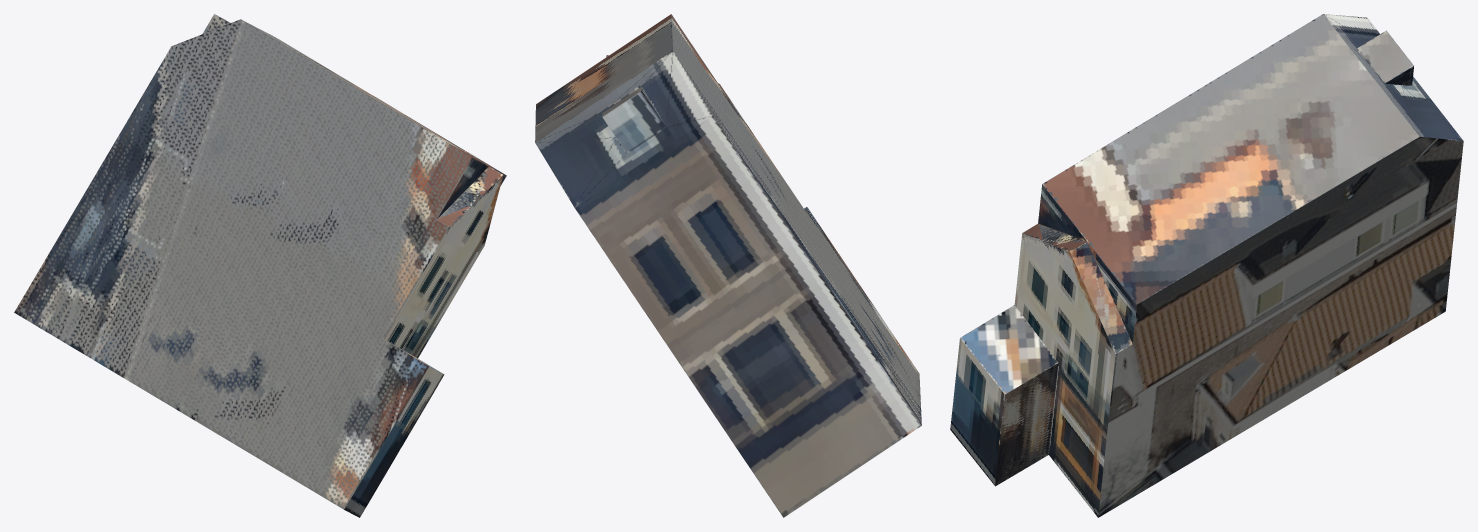
The picture shows the model from 3 angles, left to right: view 1: azimuth 30°, elevation 25°; view 2: azimuth 150°, elevation 25°; view 3: azimuth 270°, elevation 25°; orthographic projection. The views are drawn at different scales.
Visible parts, largest first — view 1: BAG_0599100000650091 (×6); view 2: BAG_0599100000650091 (×5); view 3: BAG_0599100000650091 (×6).
Boxes of the visible parts, x1,y1,x2,y2 form: BAG_0599100000650091 (×6): (14, 14, 506, 517); BAG_0599100000650091 (×5): (535, 14, 921, 517); BAG_0599100000650091 (×6): (950, 14, 1463, 517).
Size of the model in its own units: 14.81 by 14.46 by 13.36.
Materials: 1 (1 with a texture image).
